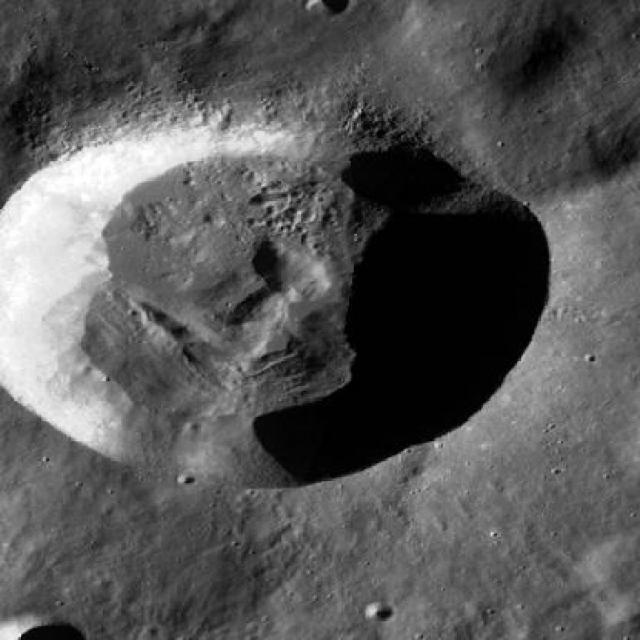crater: (0, 110, 529, 498), (397, 0, 577, 102), (308, 0, 352, 17), (366, 600, 394, 622), (462, 594, 491, 614)
